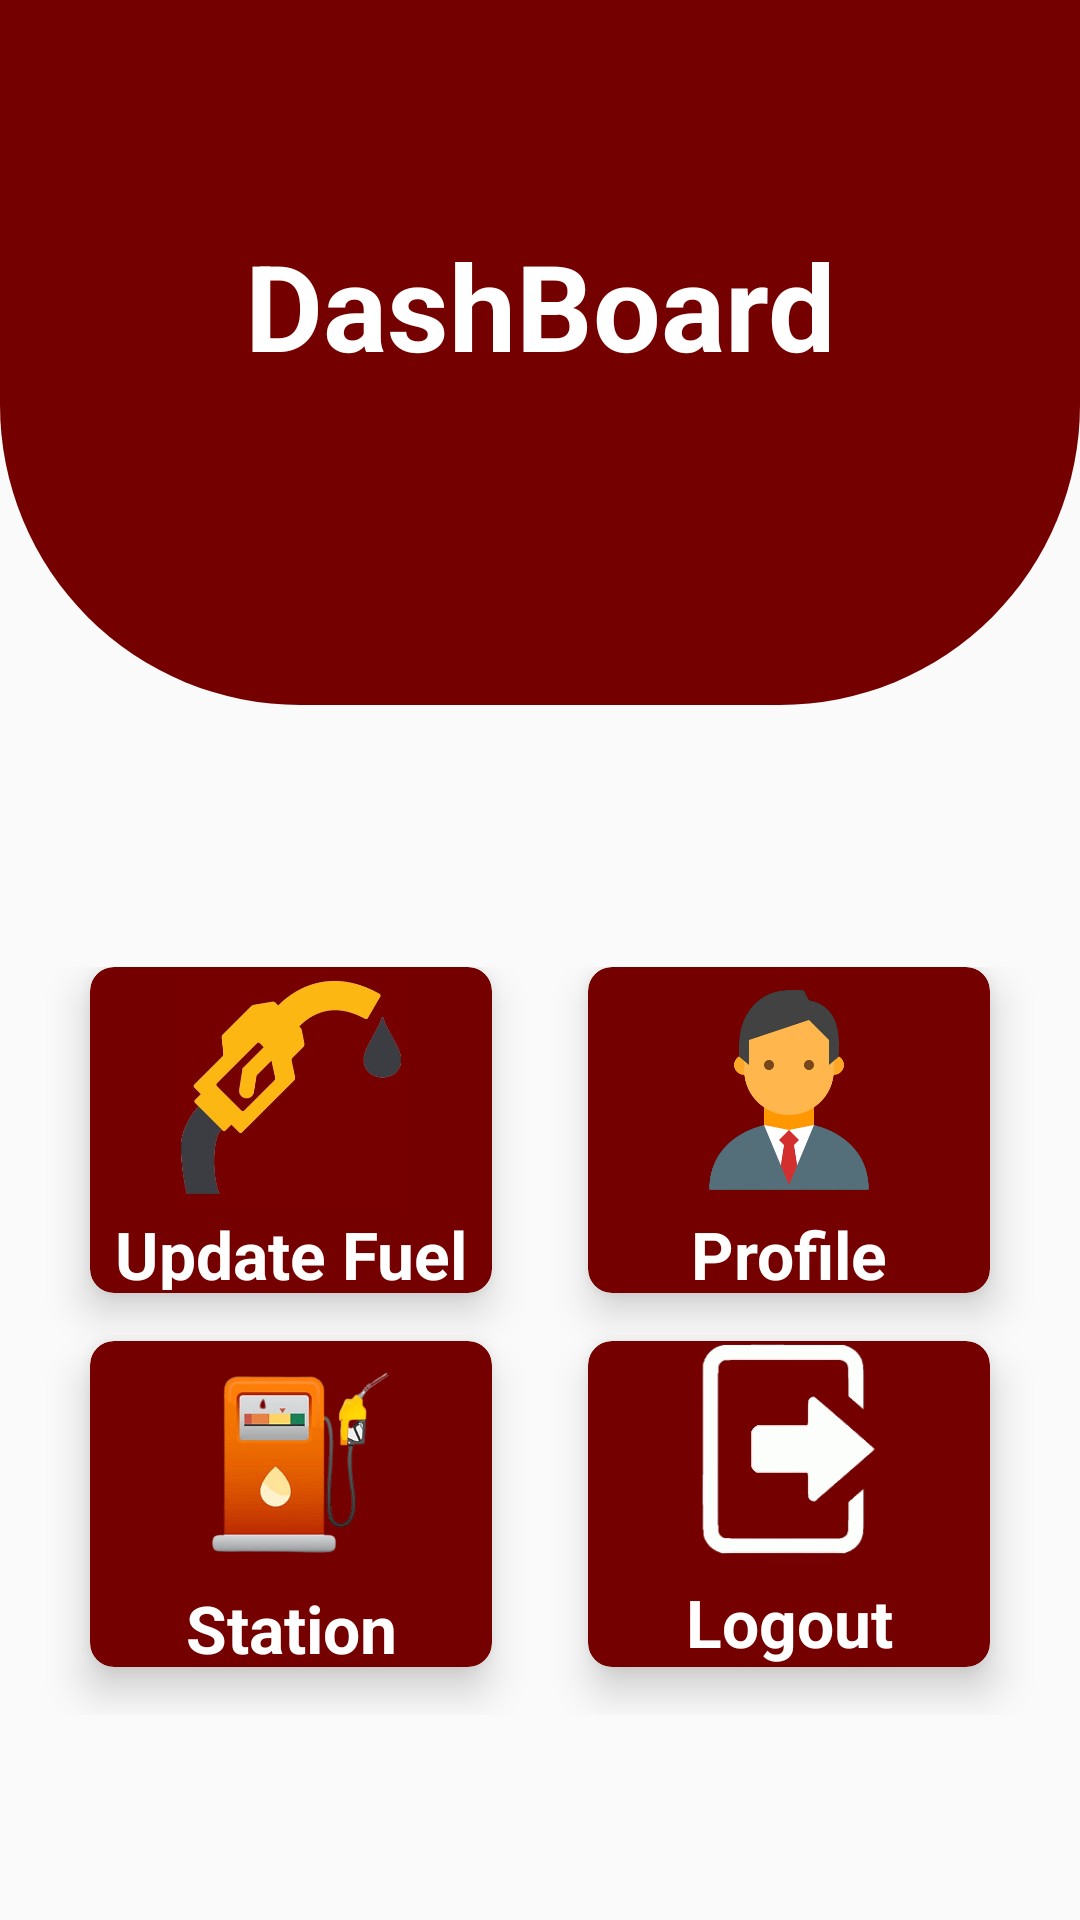

Named icons in this screenshot (1080 x 1920) and their bounding boxes, bbox(x1, y1, x2, y2):
petrol: bbox(212, 1373, 389, 1553)
